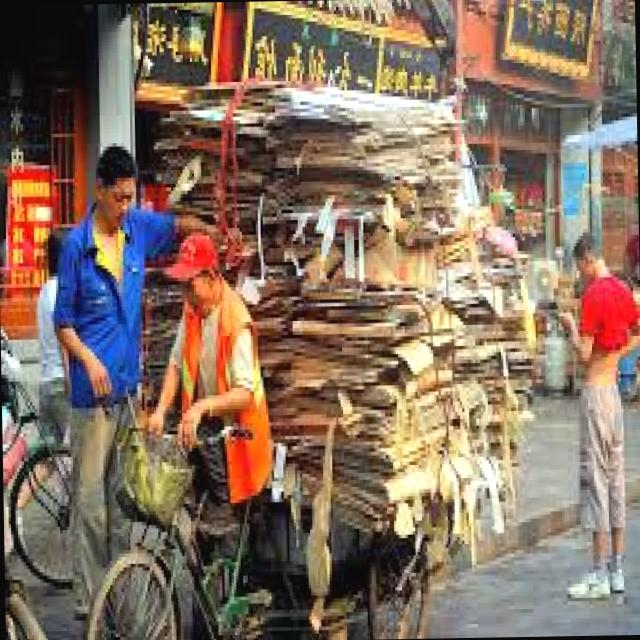garbage: (256, 70, 558, 526)
